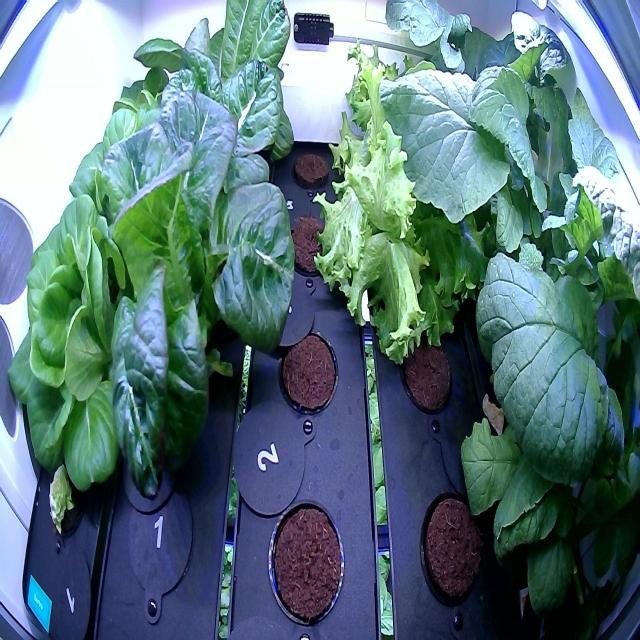Ready: (102, 88, 323, 492), (3, 192, 176, 529), (119, 0, 306, 215), (60, 75, 192, 258)
empty_pod: (116, 462, 201, 608)
pod: (262, 491, 353, 635), (412, 479, 493, 617), (390, 304, 462, 429), (271, 318, 343, 424), (277, 206, 342, 286), (287, 133, 334, 200)
